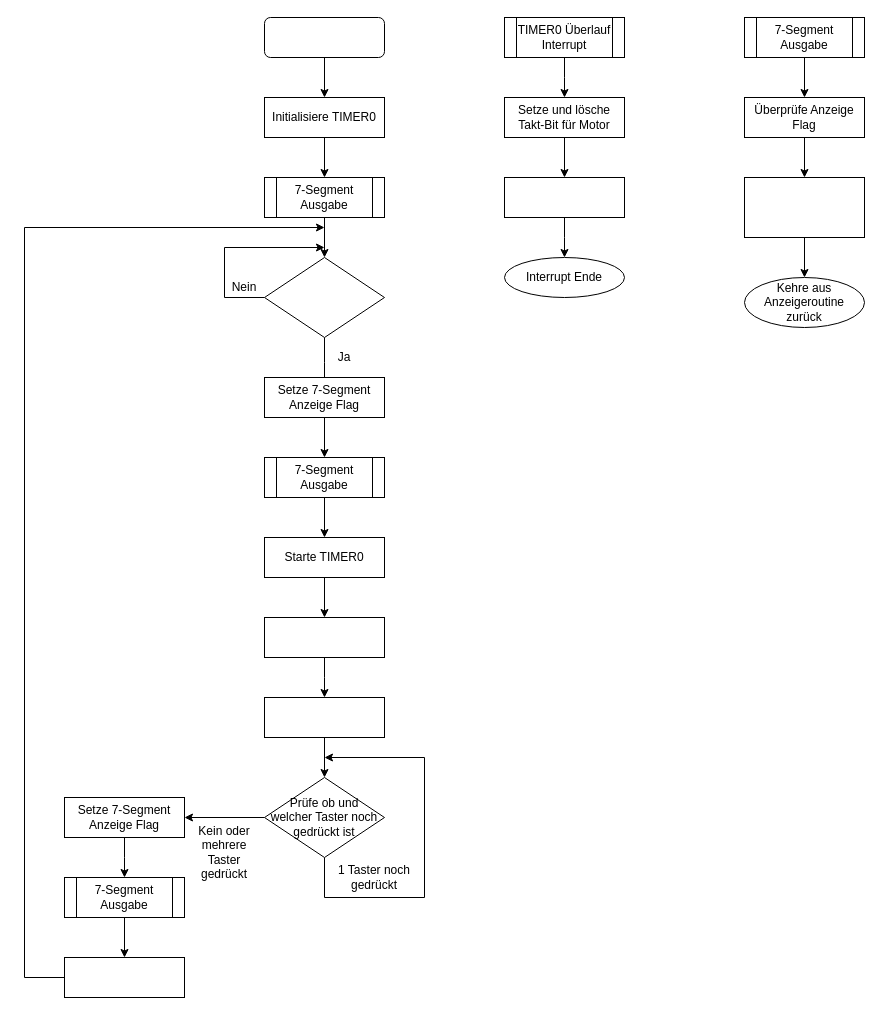
The diagram is 882 pixels wide and 1015 high, and some of its shapes have lost their labels. The box of each missing label's shape, as (x1, y1, x2, y2) in pixels:
Entprelle Taster: (264, 696, 384, 738)
Gebe Anzeige sequenziell, gemäß Anzeige Flag, auf die 4 Ziffernblätter aus: (744, 176, 864, 238)
Hauptprogramm: (264, 16, 384, 58)
Prüfe, ob und welcher Taster gedrückt wurde: (264, 256, 384, 338)
Setze Zähler auf den vorherigen Zählwert: (504, 176, 624, 218)
Setze Zähler und stelle Schrittmotor ein: (264, 616, 384, 658)
Stoppe TIMER0: (64, 956, 184, 998)
